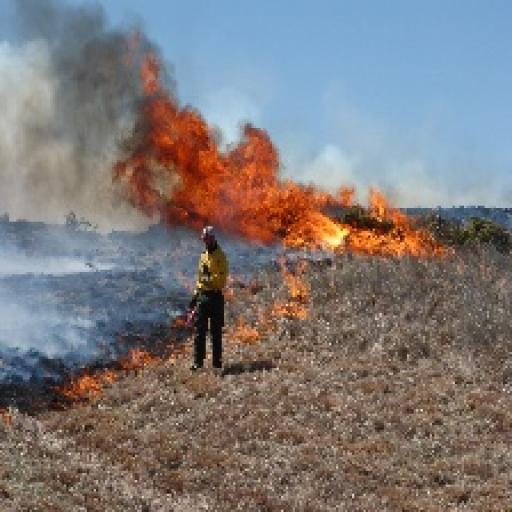fire and smoke: (112, 50, 441, 254)
